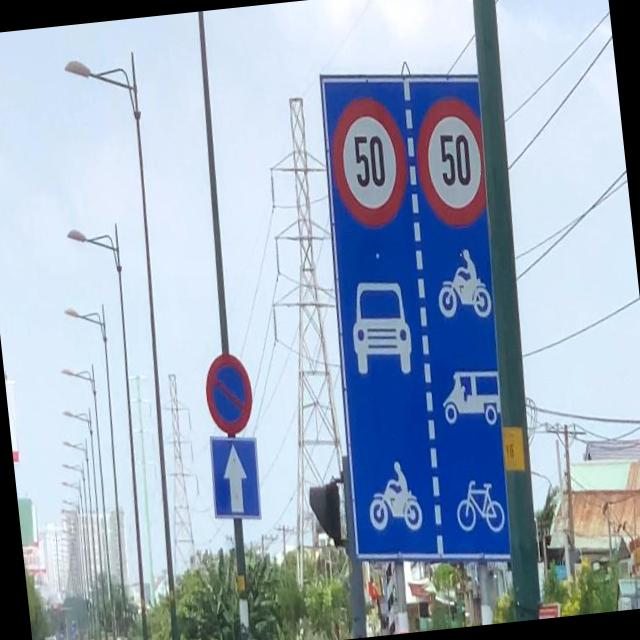I-407a: (206, 434, 262, 520)
P-131a: (203, 352, 253, 436)
